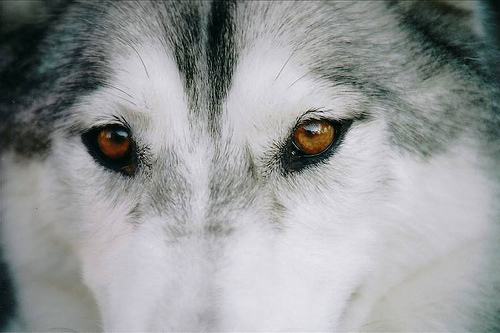dog: (2, 0, 498, 331)
